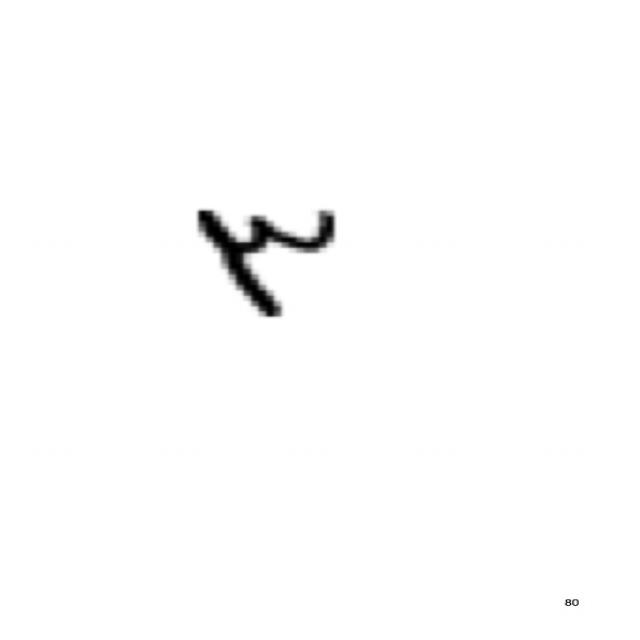3 -three-: (178, 190, 354, 335)
